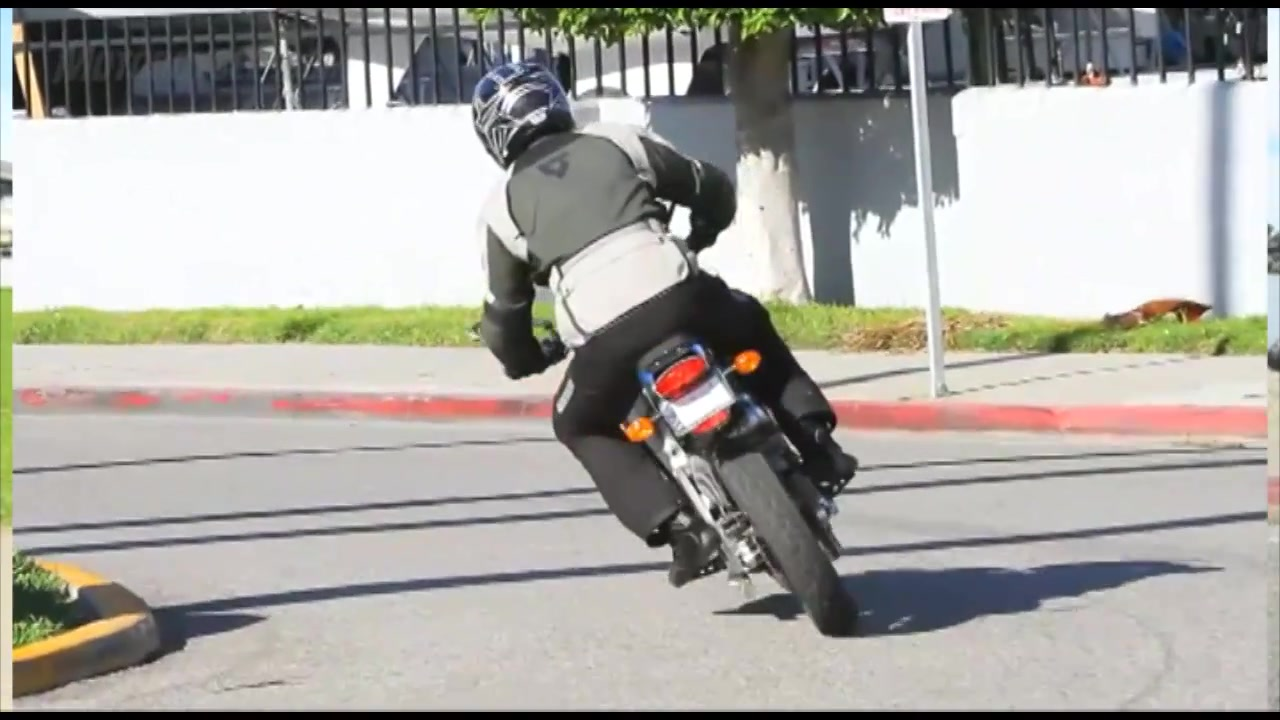motorbike: (616, 334, 870, 641)
